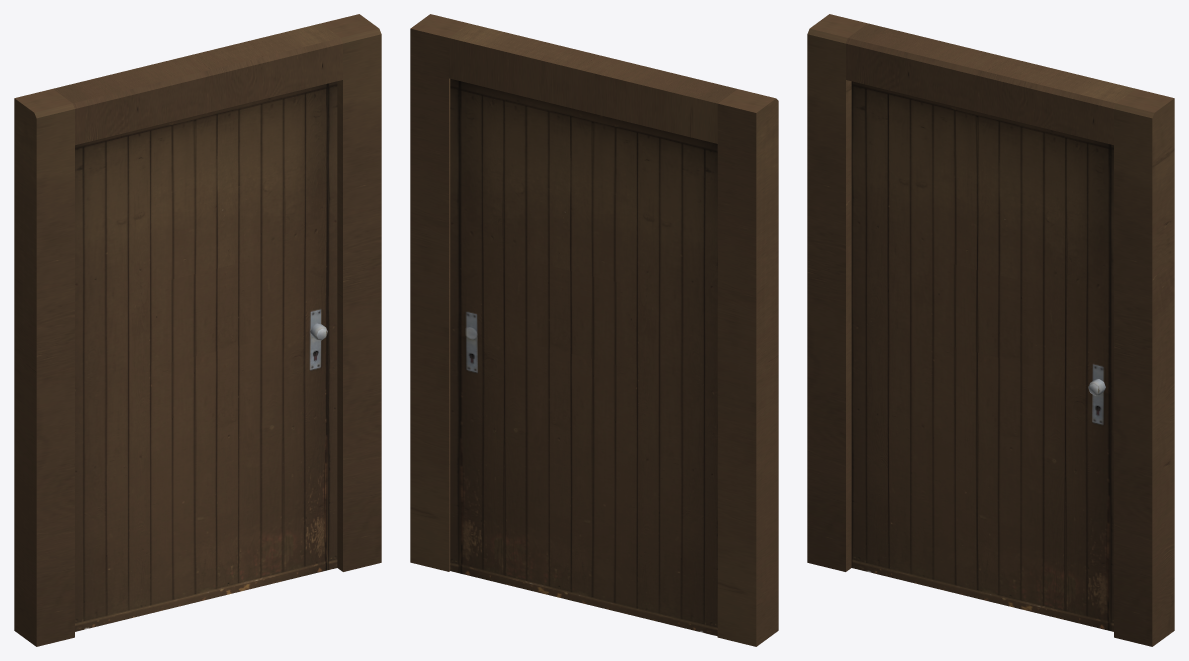
The model's file is PM_Door.fbx.
3 renders of one model, left to right at view 1: azimuth 30°, elevation 25°; view 2: azimuth 150°, elevation 25°; view 3: azimuth 330°, elevation 25°, orthographic.
Parts seen in each view (by area): view 1: polySurface1; view 2: polySurface1; view 3: polySurface1.
Part boxes in pixels (x1,y1,x2,y2): polySurface1: (14, 14, 381, 646); polySurface1: (410, 14, 778, 646); polySurface1: (807, 14, 1174, 646).
Size of the model in its own units: 1.54 by 2.27 by 0.1713.
